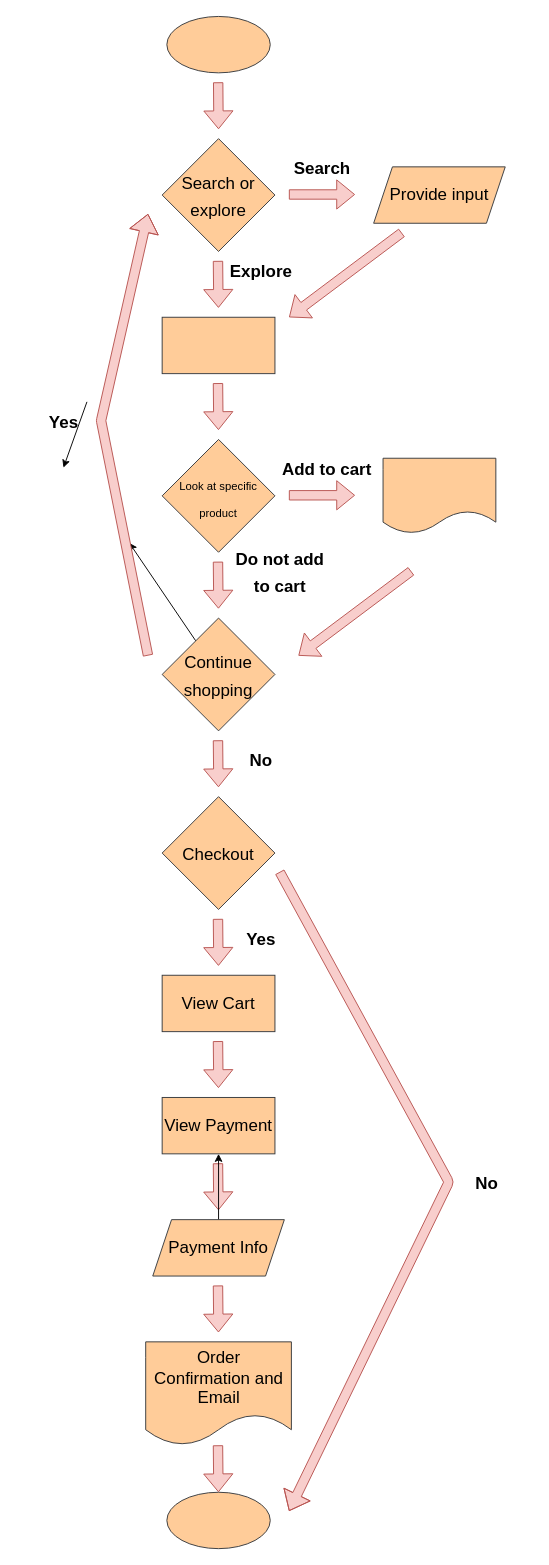
Some shapes in this 549 by 1565 pixel diagram are drawn without their labels. The centre of each missing label's shape, as x and y in pixels:
"Added to cart confirmation" belongs at point (439, 495).
"End" belongs at point (218, 1520).
"Look at products" belongs at point (218, 345).
"Start" belongs at point (218, 44).
